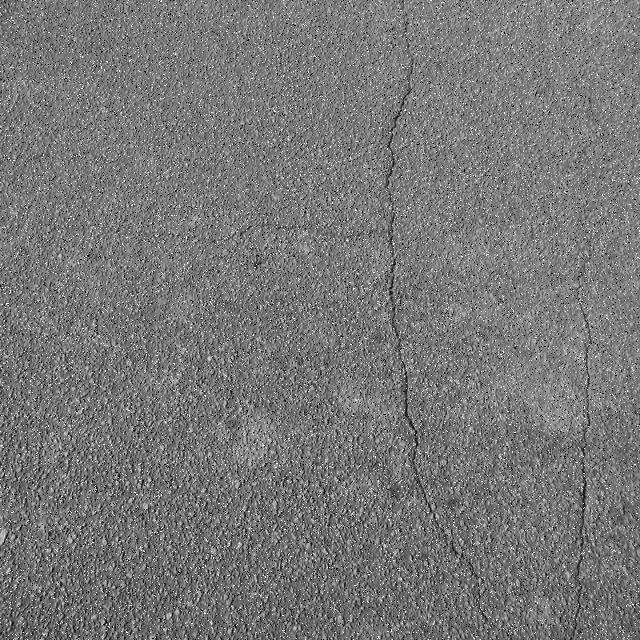moderate crack: (383, 21, 451, 607), (552, 119, 599, 640), (386, 0, 414, 146), (573, 440, 588, 567), (0, 522, 23, 590), (382, 118, 401, 184)
severe crack: (3, 4, 406, 499), (191, 416, 421, 637), (6, 412, 218, 635), (438, 514, 535, 638), (607, 470, 640, 544), (467, 585, 494, 628), (443, 528, 468, 567)
